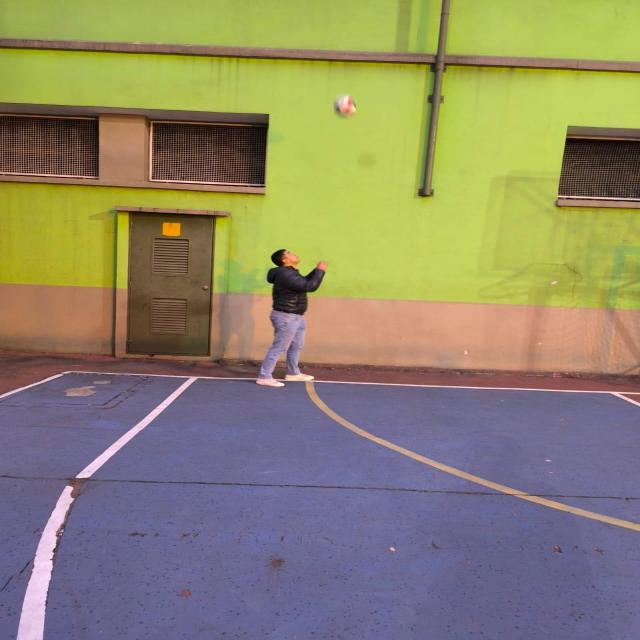volleyball: (334, 95, 356, 119)
